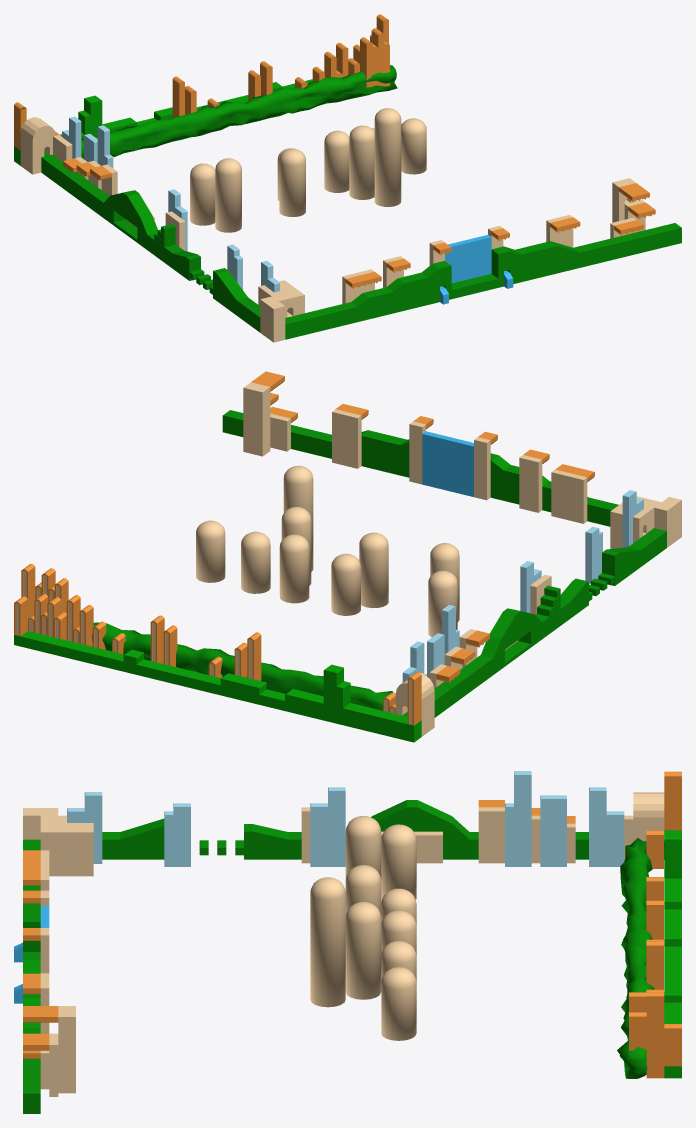
Rendered from Stage2.fbx.
The picture shows the model from 3 angles, top to bottom: view 1: azimuth 30°, elevation 25°; view 2: azimuth 150°, elevation 25°; view 3: azimuth 270°, elevation 25°; orthographic projection. The views are drawn at different scales.
Parts seen in each view (by area): view 1: Background, 1-1_backMountains, 1.3_floor, 1-2_floor, 1.3_platforms, 1-1_floor, 1-2_platforms; view 2: Background, 1-1_backMountains, 1-1_floor, 1-2_floor, 1.3_floor, 1.3_platforms, 1-2_platforms; view 3: Background, 1-1_backMountains, 1-2_floor, 1-1_floor, 1.3_floor, 1.3_platforms.
Boxes of the visible parts, box(x1,y1,x2,y2) form: Background: box(14, 14, 645, 342); 1-1_backMountains: box(190, 108, 426, 232); 1.3_floor: box(285, 223, 681, 339); 1-2_floor: box(41, 151, 260, 332); 1.3_platforms: box(345, 183, 655, 288); 1-1_floor: box(14, 79, 312, 165); 1-2_platforms: box(63, 158, 111, 180); Background: box(14, 382, 681, 736); 1-1_backMountains: box(196, 465, 459, 637); 1-1_floor: box(14, 631, 421, 742); 1-2_floor: box(402, 528, 666, 717); 1.3_floor: box(222, 410, 618, 526); 1.3_platforms: box(251, 371, 594, 481); 1-2_platforms: box(436, 630, 489, 682); Background: box(14, 771, 681, 1096); 1-1_backMountains: box(310, 816, 416, 1040); 1-2_floor: box(102, 800, 664, 859); 1-1_floor: box(664, 830, 681, 1078); 1.3_floor: box(23, 839, 40, 1113); 1.3_platforms: box(23, 850, 58, 1058).
Bounding box in the file's own units: 7150 × 1500 × 7550.
